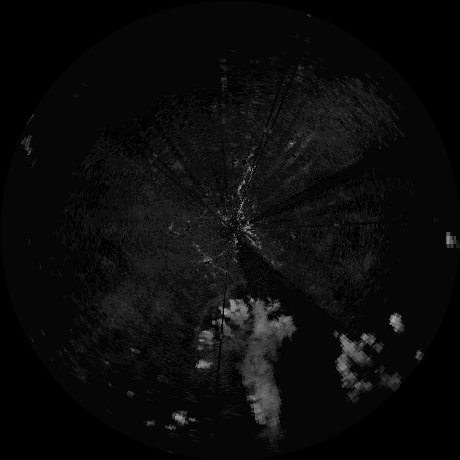frontgust: (197, 279, 244, 326)
